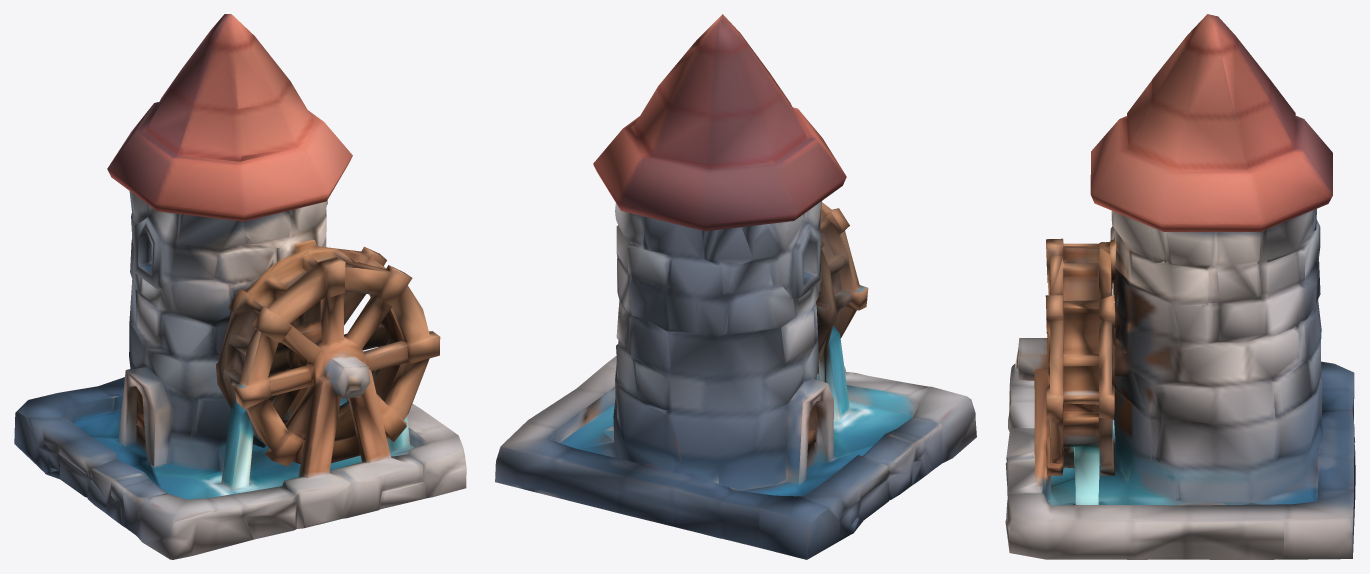
Rendered from degirmen.glb.
The picture shows the model from 3 angles, left to right: view 1: azimuth 30°, elevation 25°; view 2: azimuth 150°, elevation 25°; view 3: azimuth 270°, elevation 25°; orthographic projection. The views are drawn at different scales.
Visible parts, largest first — view 1: node_0; view 2: node_0; view 3: node_0.
Part boxes in pixels (box(x1,y1,x2,y2)): node_0: box(14, 14, 466, 559); node_0: box(495, 14, 976, 559); node_0: box(1005, 14, 1355, 559).
Bounding box in the file's own units: 0.6303 × 0.8636 × 0.5833.
1 material, 1 textured.
